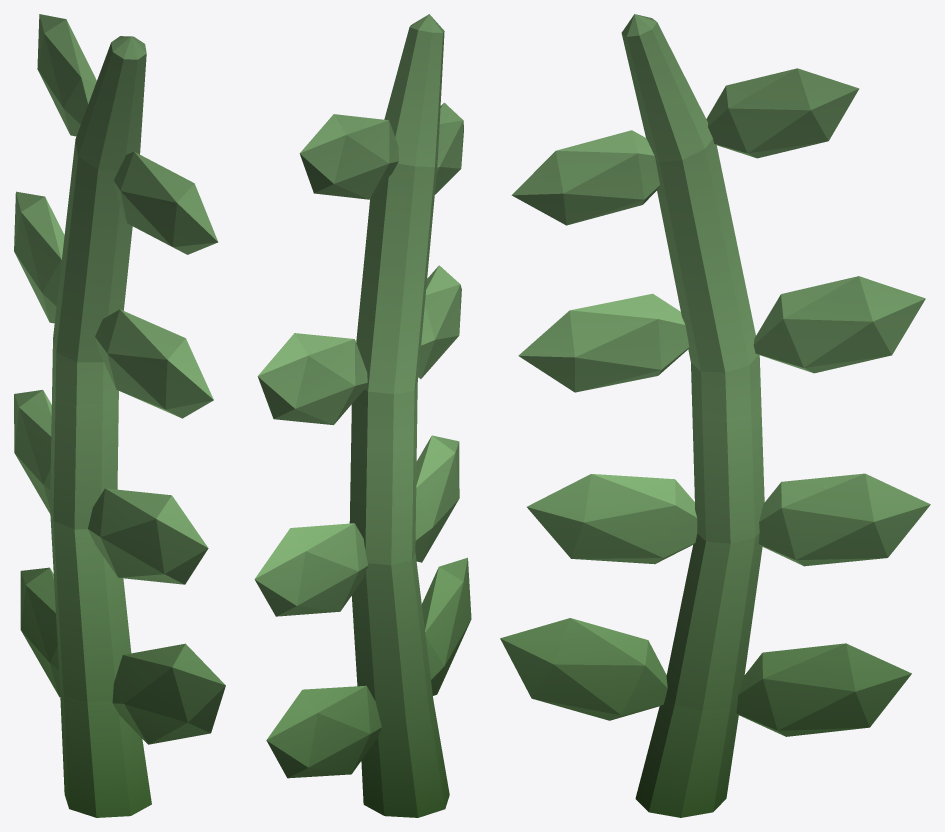
Rendered from Plant_01.fbx.
3 views of the same model, side by side, from view 1: azimuth 30°, elevation 25°; view 2: azimuth 150°, elevation 25°; view 3: azimuth 270°, elevation 25° (orthographic). The views are drawn at different scales.
Parts seen in each view (by area): view 1: Plant_01; view 2: Plant_01; view 3: Plant_01.
Boxes of the visible parts, x1,y1,x2,y2 form: Plant_01: [14, 14, 225, 817]; Plant_01: [254, 14, 471, 817]; Plant_01: [500, 14, 930, 817].
Size of the model in its own units: 4.87 by 45.46 by 22.63.
Materials: 1 (1 with a texture image).
